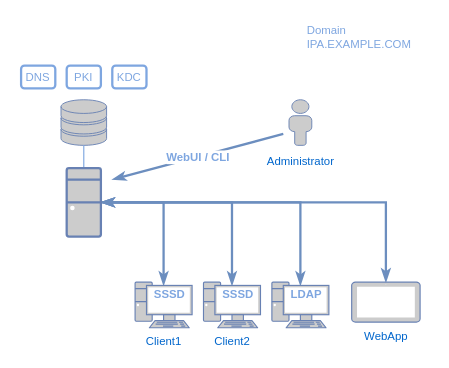
The diagram is 449 pixels wide and 368 high, and some of its shapes have lost their labels. The shapes that lost their labels are listed below. From the top down, each one's box as (x1, y1, x2, y2) in pixels, then its label:
(65, 166, 101, 237): ipa1.example.com
(270, 280, 329, 328): Client3
